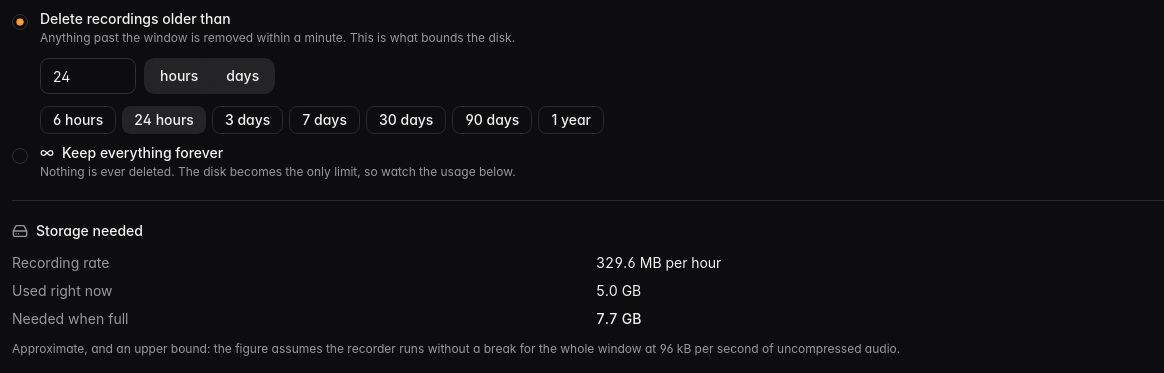
it: the retention settings card › changing the window › ignores an empty box and puts the stored window back
The width and height of the screenshot is (1164, 373).
Clear the number field named "Retention amount" at coordinates (88, 76), box [40,58,136,94]
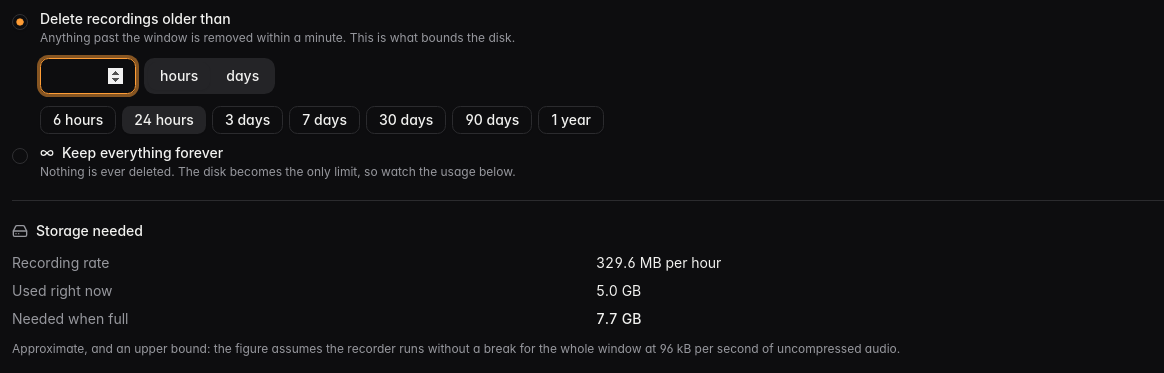
Press Tab
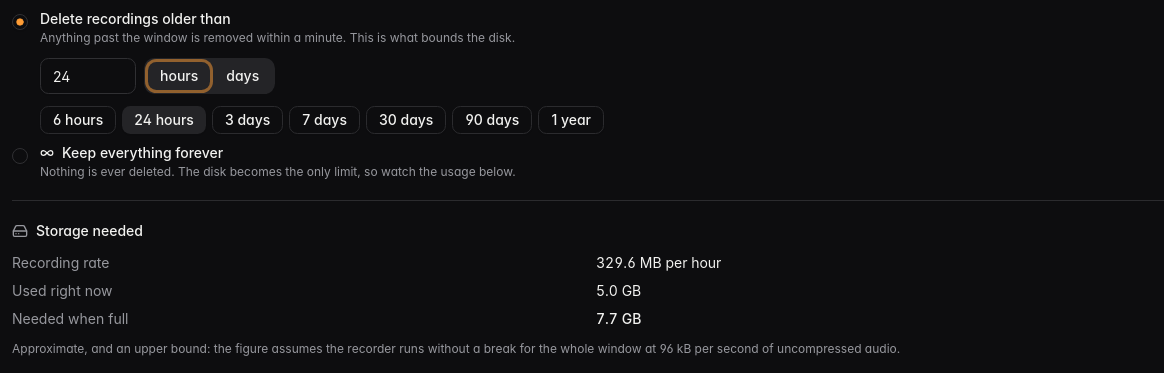
Check: the number field named "Retention amount" holds "24", box [40,58,136,94]
